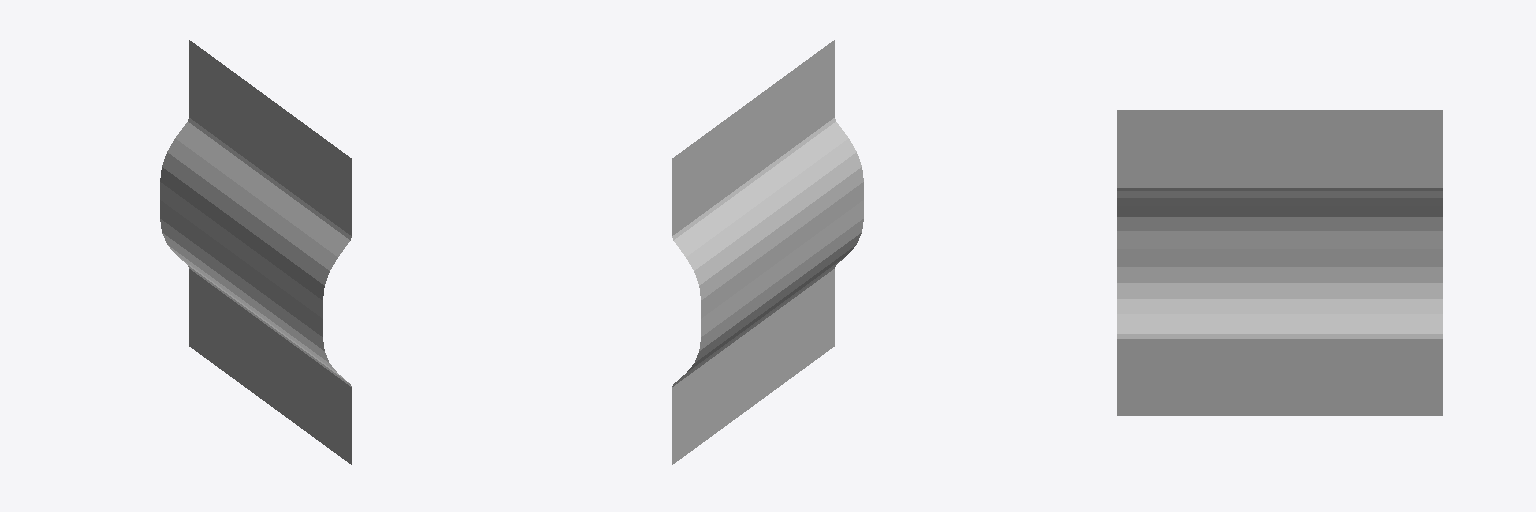
Rendered from basic_pared.obj.
3 renders of one model, left to right at view 1: azimuth 30°, elevation 25°; view 2: azimuth 150°, elevation 25°; view 3: azimuth 270°, elevation 25°, orthographic.
Visible parts, largest first — view 1: polySurface6 pared_low1; view 2: polySurface6 pared_low1; view 3: polySurface6 pared_low1.
Part boxes in pixels (left/top/right/bottom): polySurface6 pared_low1: left=160, top=40, right=351, bottom=464; polySurface6 pared_low1: left=672, top=40, right=863, bottom=464; polySurface6 pared_low1: left=1117, top=110, right=1442, bottom=415.
Size of the model in its own units: 0.5127 by 5.18 by 4.99.